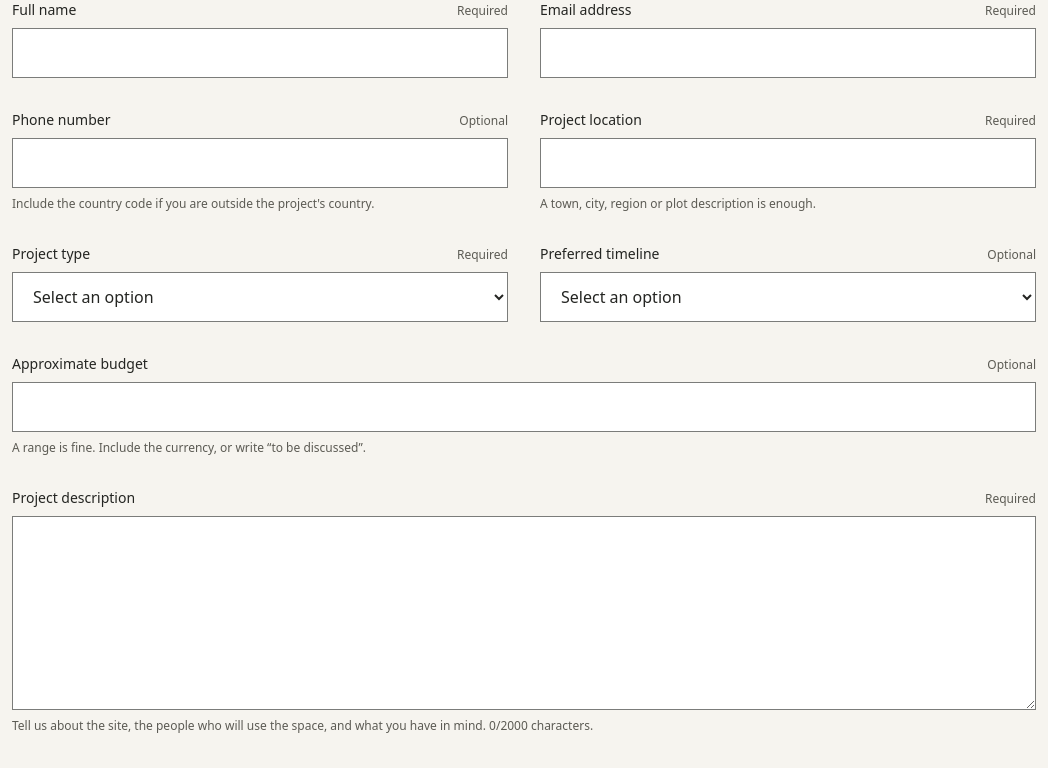
Test: ContactForm with a submission service › posts JSON and shows success only after a confirmed 2xx response
Type "Amina Otieno" into the field labelled "Full name Required" at (260, 53), box [12,28,508,78]
Type "amina@example.com" into the field labelled "Email address Required" at (788, 53), box [540,28,1036,78]
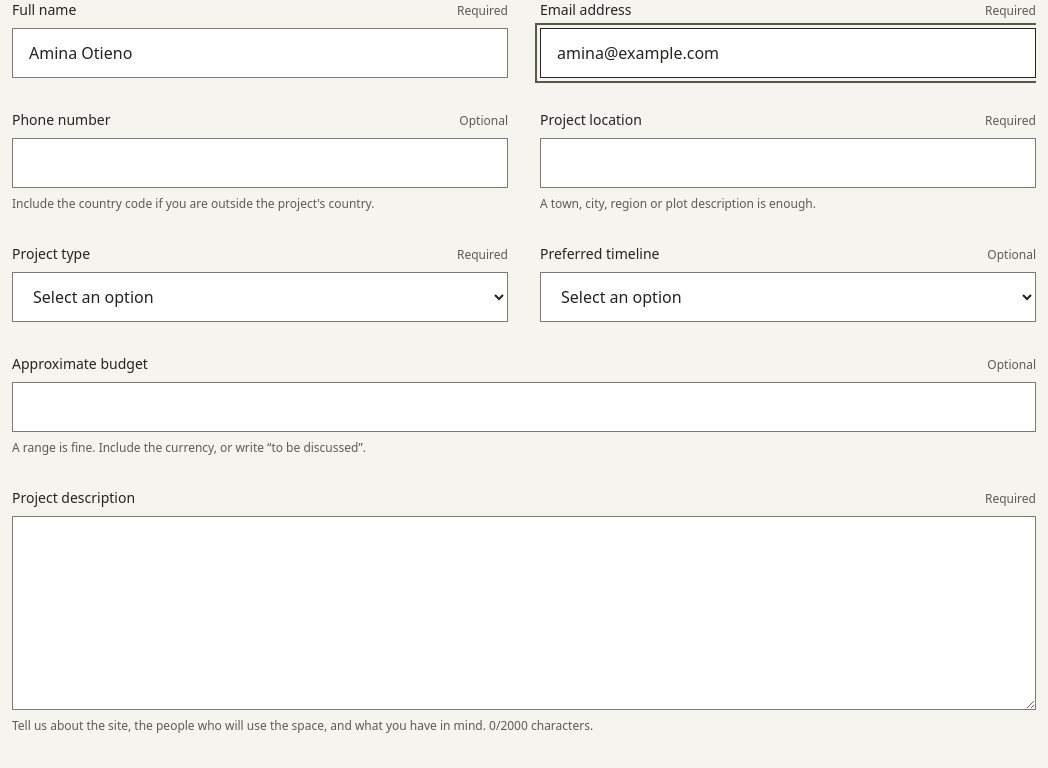
Type "Nairobi" into the field labelled "Project location Required" at (788, 163), box [540,138,1036,188]
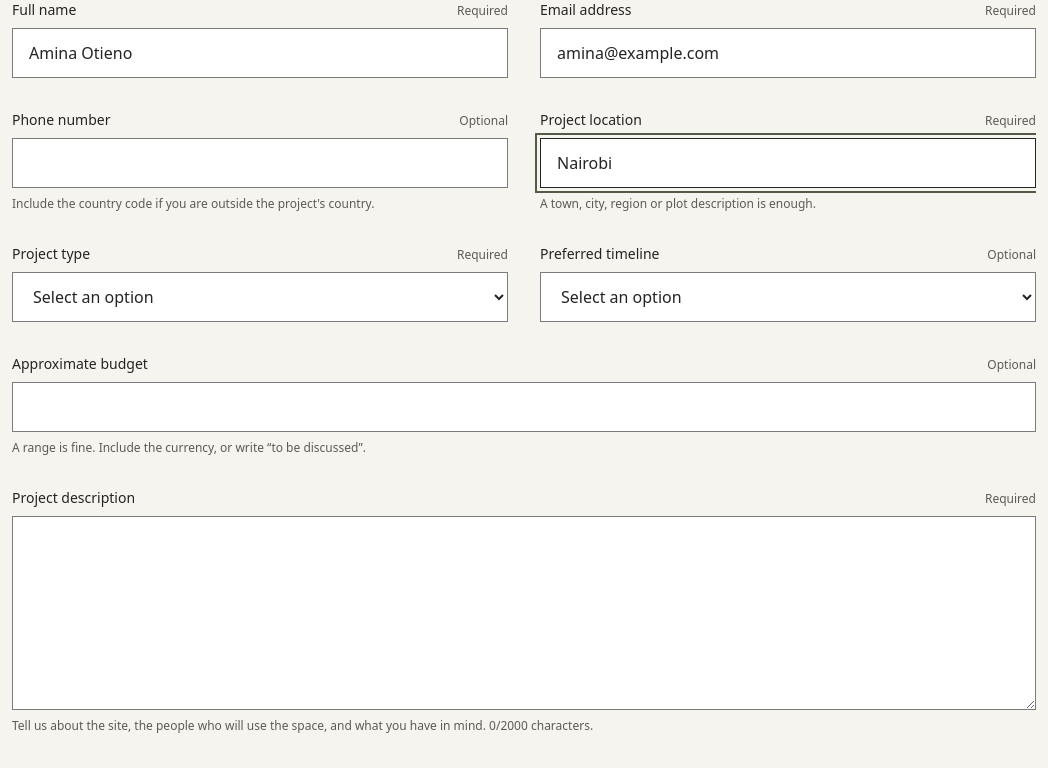
Select "Residential" in the dropdown labelled "Project type Required" at (260, 297), box [12,272,508,322]
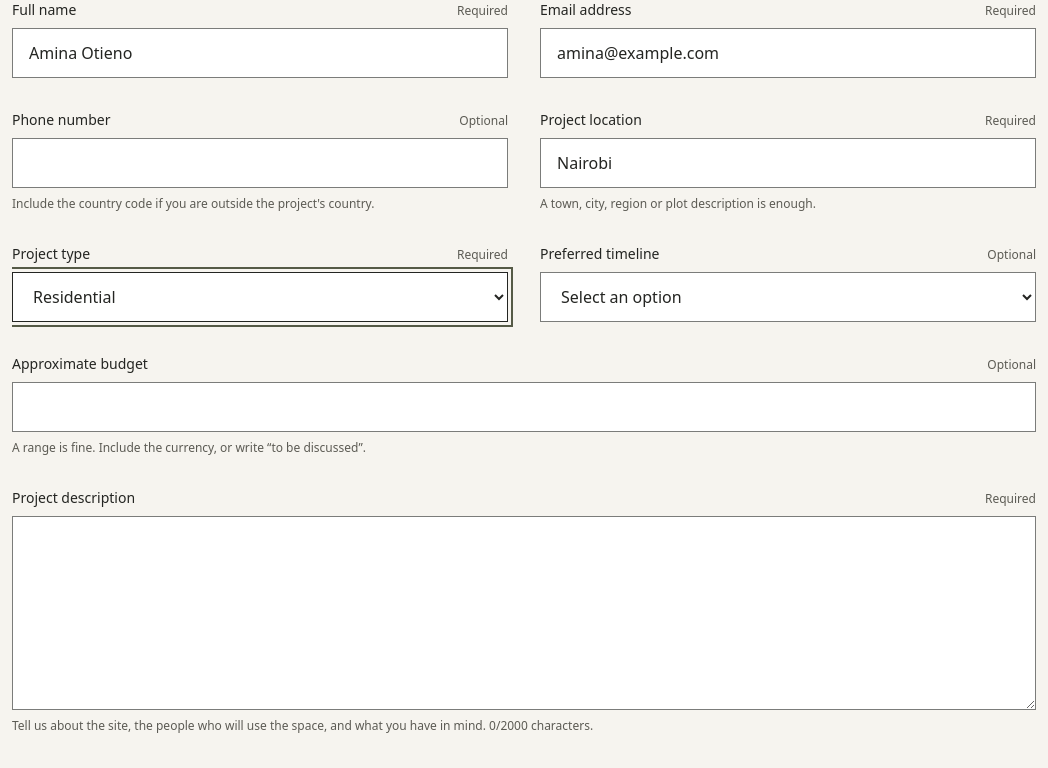
Type "A family home on a gently sloping plot." into the text box labelled "Project description Required" at (524, 613), box [12,516,1036,710]
(page scrolled)
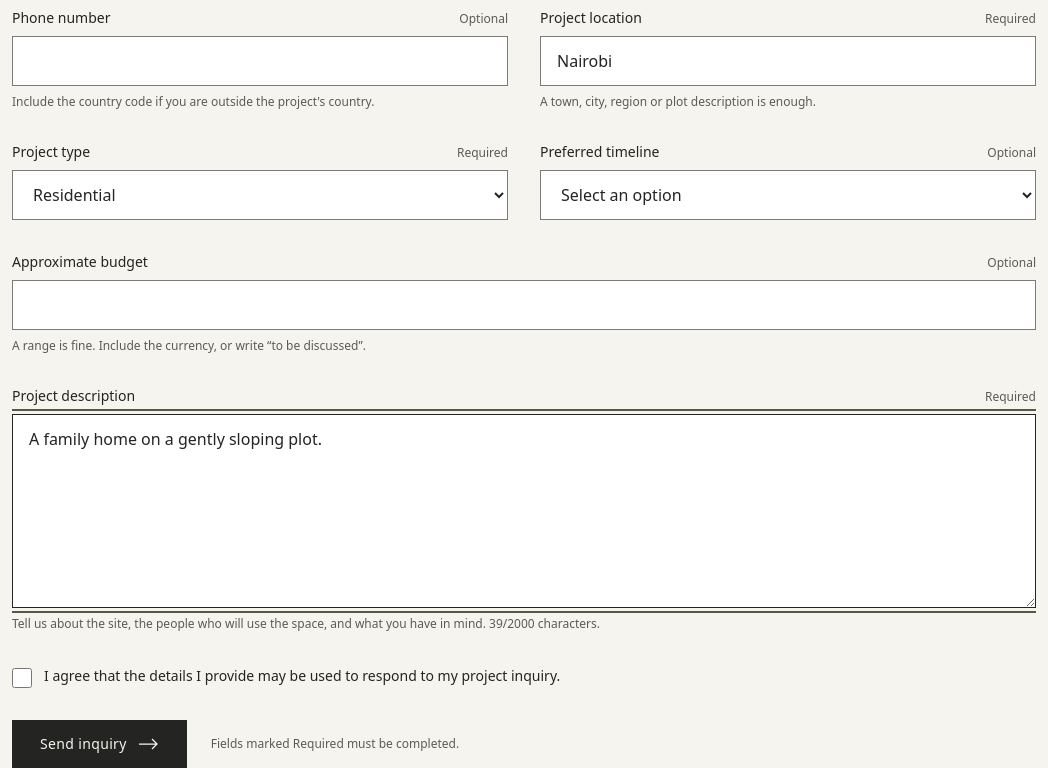
Click the checkbox labelled "I agree" at (22, 678), box [12,668,32,688]
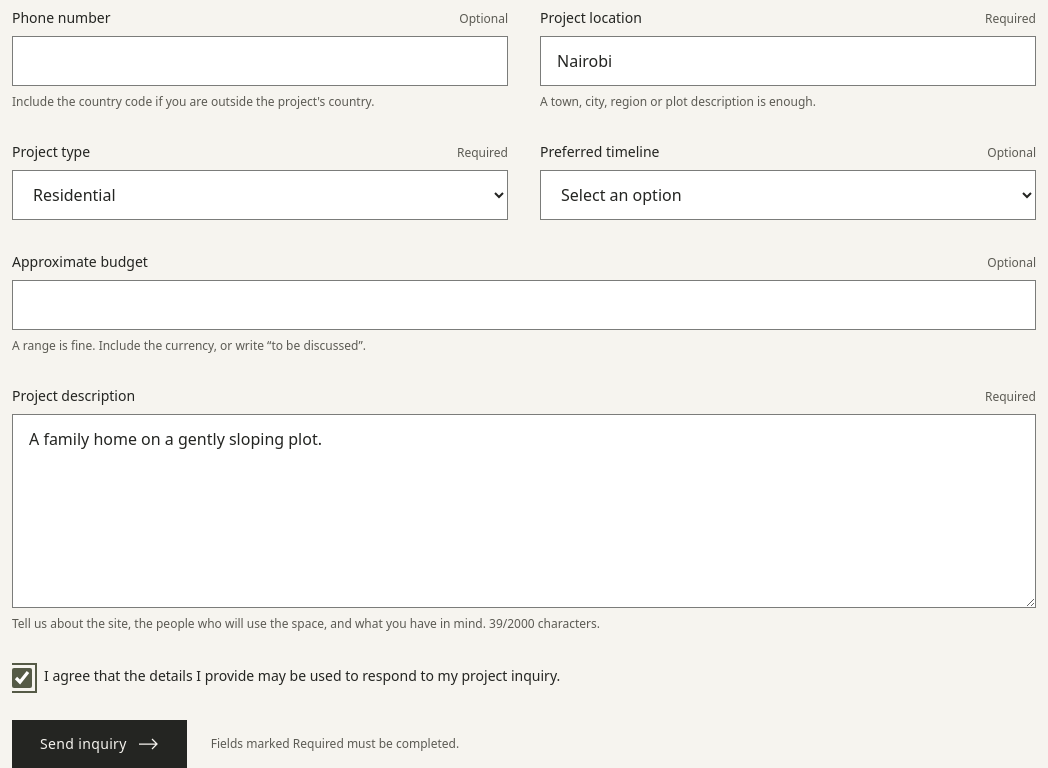
Click the button "Send inquiry" at (99, 744), box [12,720,187,767]
(page scrolled)
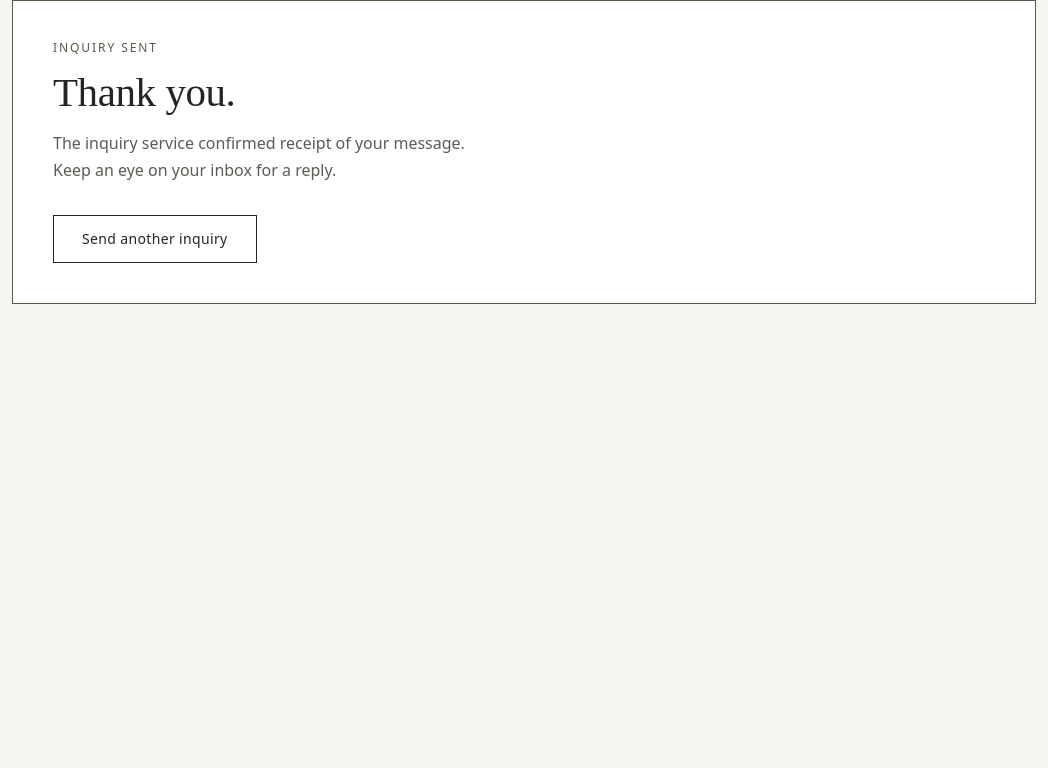
Check: the heading "Thank you." is shown, box [53,69,235,115]
